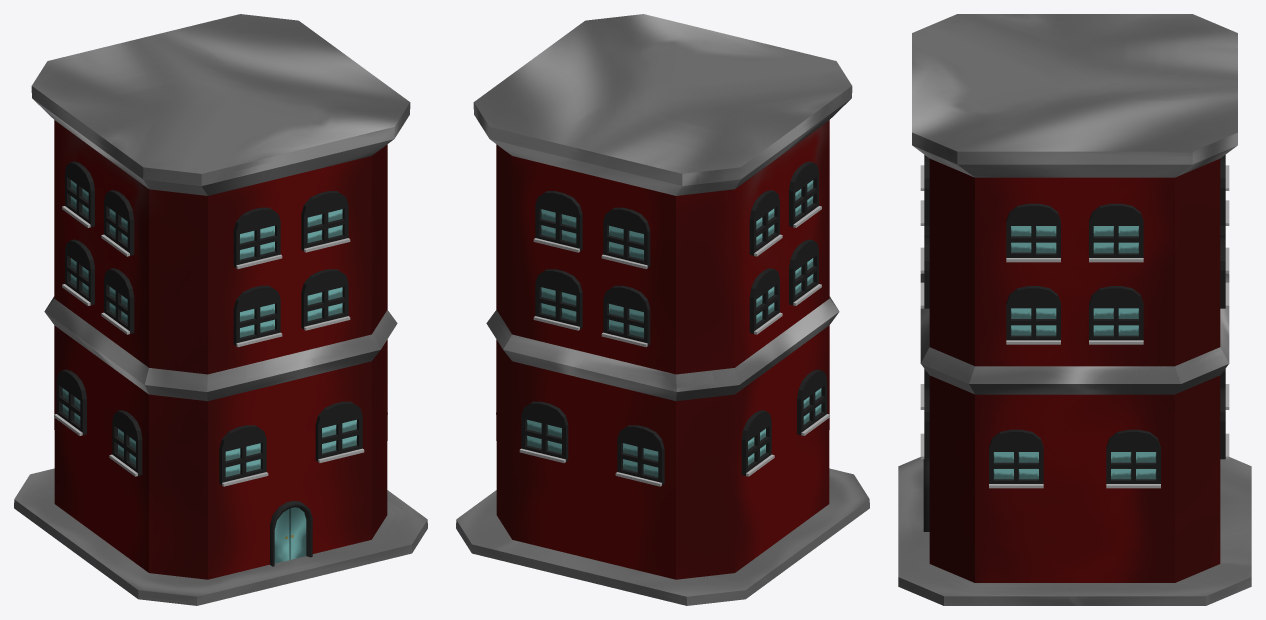
The model's file is building_1.fbx.
The picture shows the model from 3 angles, left to right: view 1: azimuth 30°, elevation 25°; view 2: azimuth 150°, elevation 25°; view 3: azimuth 270°, elevation 25°; orthographic projection. The views are drawn at different scales.
Parts seen in each view (by area): view 1: Building1_LOD0; view 2: Building1_LOD0; view 3: Building1_LOD0.
Part boxes in pixels (x1,y1,x2,y2): Building1_LOD0: (14, 14, 427, 605); Building1_LOD0: (456, 14, 869, 605); Building1_LOD0: (898, 14, 1251, 605).
Size of what is drawn, in the model's own units: 600 by 841 by 600.
